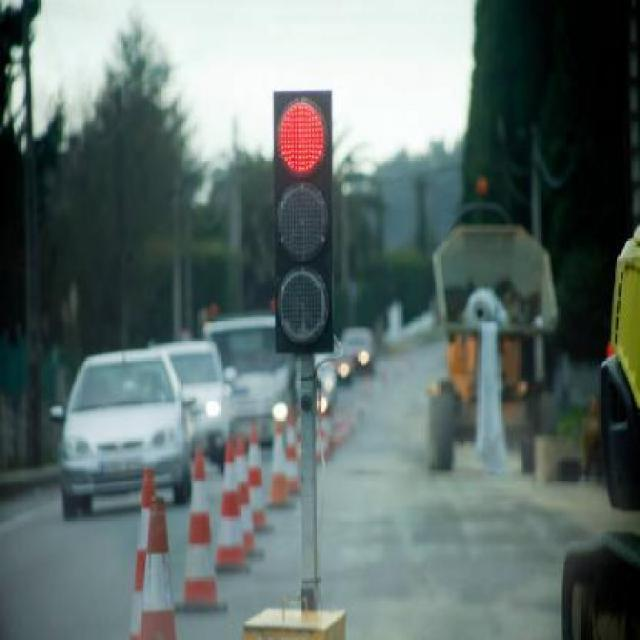red_light: (270, 91, 336, 352)
